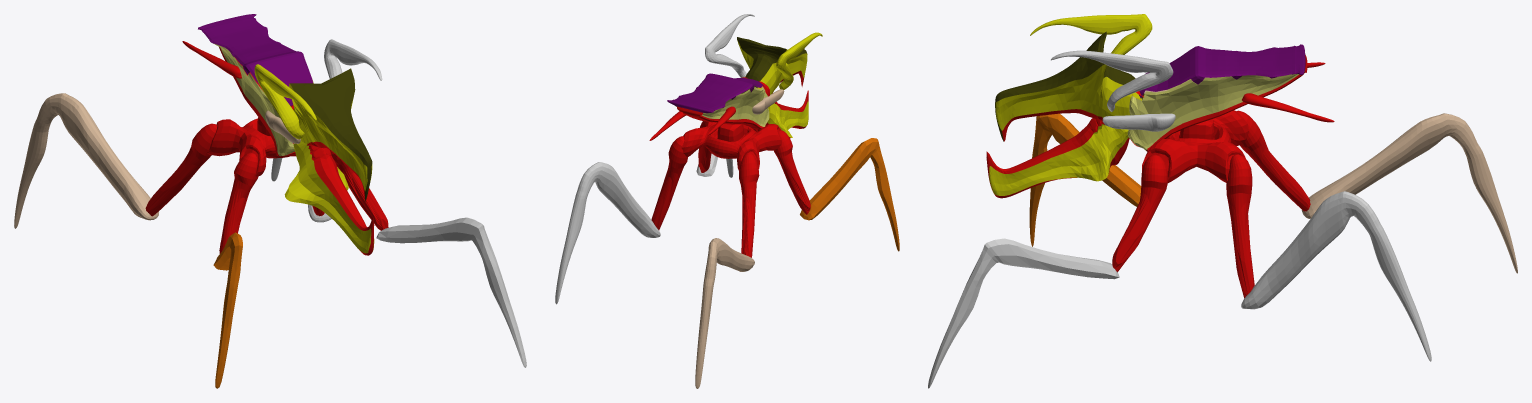
File: aracnido_000027.obj
The picture shows the model from 3 angles, left to right: view 1: azimuth 30°, elevation 25°; view 2: azimuth 150°, elevation 25°; view 3: azimuth 270°, elevation 25°; orthographic projection. The views are drawn at different scales.
Parts seen in each view (by area): view 1: ARAK-BODY-; view 2: ARAK-BODY-; view 3: ARAK-BODY-.
Boxes of the visible parts, box(x1,y1,x2,y2) form: ARAK-BODY-: box(14, 14, 526, 388); ARAK-BODY-: box(555, 14, 899, 388); ARAK-BODY-: box(928, 14, 1517, 388).
Bounding box in the file's own units: 2.64 × 2.71 × 4.81.
